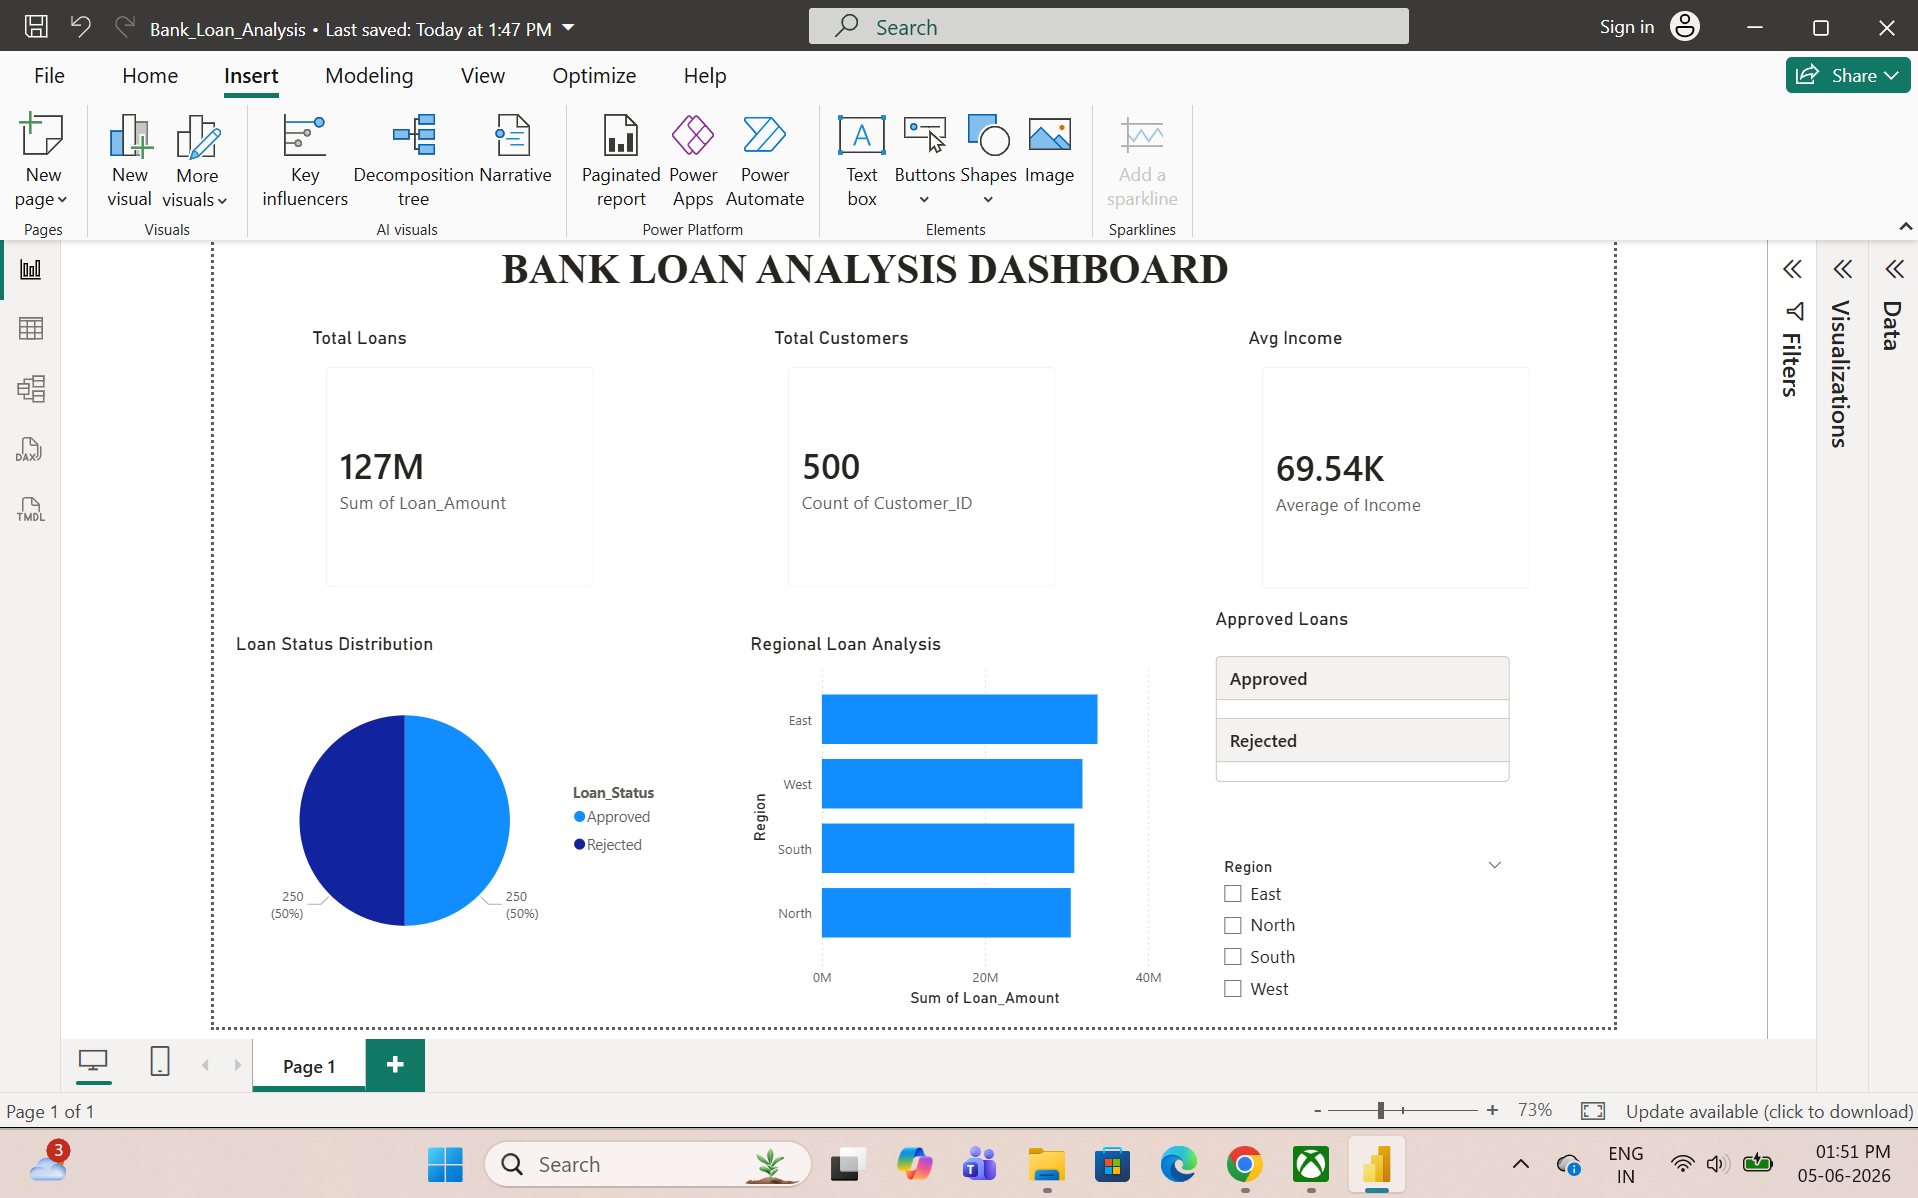

The dashboard page shown, as its layout file describes it:
{"tool":"powerbi","page":{"name":"Page 1","canvas":[1280,720],"ordinal":0},"visuals":[{"type":"cardVisual","title":"Total Loans","fields":{"Data":["Sum(Bank_Loan_Analysis_Dataset.Loan_Amount)"]},"box":[85,79.4,279.7,255.1],"z":0},{"type":"cardVisual","title":"Avg Income","fields":{"Data":["Avg(Bank_Loan_Analysis_Dataset.Income)"]},"box":[941.1,79.4,279.7,257],"z":1000},{"type":"cardVisual","title":"Approved Loans","fields":{"Rows":["Bank_Loan_Analysis_Dataset.Loan_Status"]},"box":[910.9,336.4,279.7,185.2],"z":2000},{"type":"cardVisual","title":"Total Customers","fields":{"Data":["CountNonNull(Bank_Loan_Analysis_Dataset.Customer_ID)"]},"box":[508.4,79.4,279.7,255.1],"z":3000},{"type":"textbox","box":[0,0,1191.2,59],"z":4000},{"type":"clusteredBarChart","title":"Regional Loan Analysis","fields":{"Y":["Sum(Bank_Loan_Analysis_Dataset.Loan_Amount)"],"Category":["Bank_Loan_Analysis_Dataset.Region"]},"box":[485.7,359.1,385.5,345.8],"z":5000},{"type":"pieChart","title":"Loan Status Distribution","fields":{"Category":["Bank_Loan_Analysis_Dataset.Loan_Status"],"Y":["CountNonNull(Bank_Loan_Analysis_Dataset.Customer_ID)"]},"box":[15.1,359.1,410.1,323.2],"z":6000},{"type":"slicer","fields":{"Values":["Bank_Loan_Analysis_Dataset.Region"]},"box":[910.9,559.4,279.7,145.5],"z":6001}]}

Visuals, with their boxes on the page's 1280x720 design canvas (x1, y1, x2, y2). These are canvas units, not pixel positions in the 1918x1198 screenshot, which may show the page scaled, cropped or inside an application window:
"Total Loans" cardVisual: l=85, t=79, r=365, b=334
"Avg Income" cardVisual: l=941, t=79, r=1221, b=336
"Approved Loans" cardVisual: l=911, t=336, r=1191, b=522
"Total Customers" cardVisual: l=508, t=79, r=788, b=334
textbox: l=0, t=0, r=1191, b=59
"Regional Loan Analysis" clusteredBarChart: l=486, t=359, r=871, b=705
"Loan Status Distribution" pieChart: l=15, t=359, r=425, b=682
slicer - Bank_Loan_Analysis_Dataset.Region: l=911, t=559, r=1191, b=705
